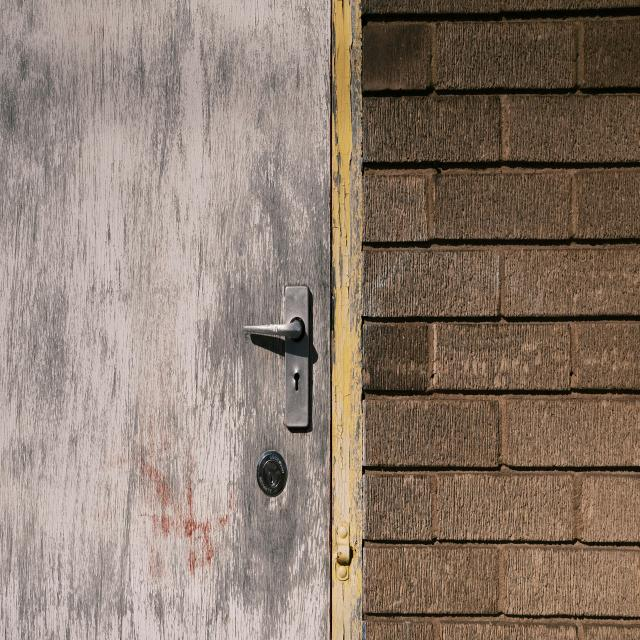door-handle: (244, 319, 305, 339)
